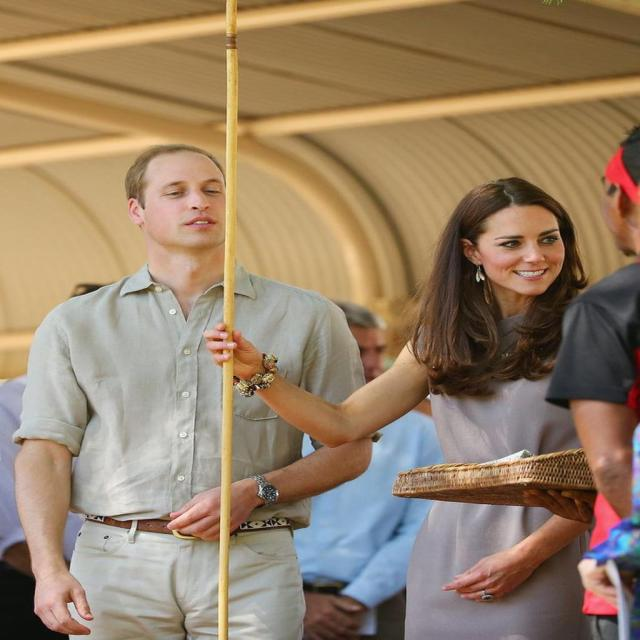nomask: (481, 191, 567, 298), (148, 156, 232, 245)
